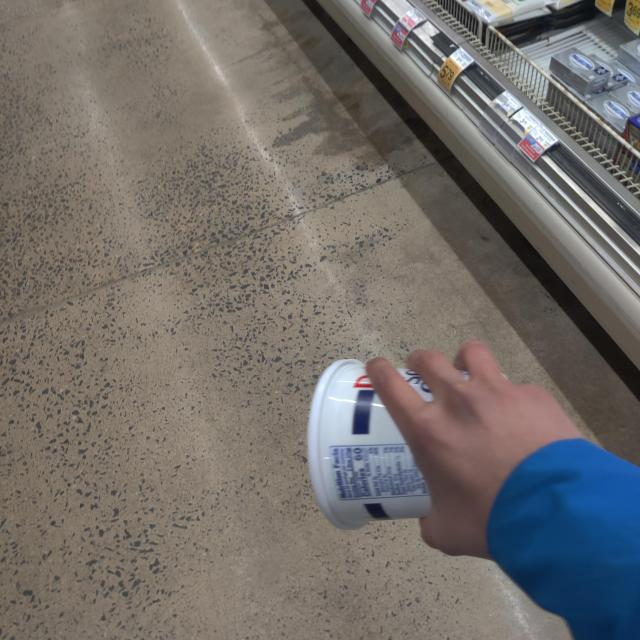Yogurt: (289, 333, 566, 540)
